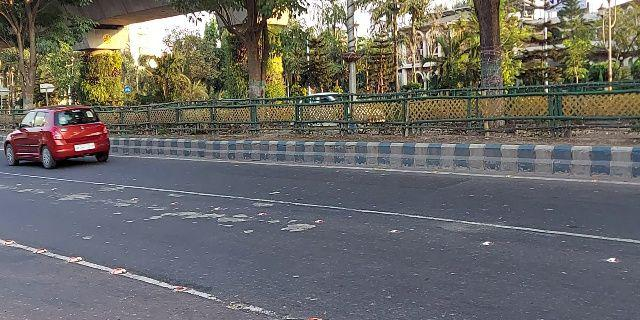Car: (3, 101, 112, 172)
